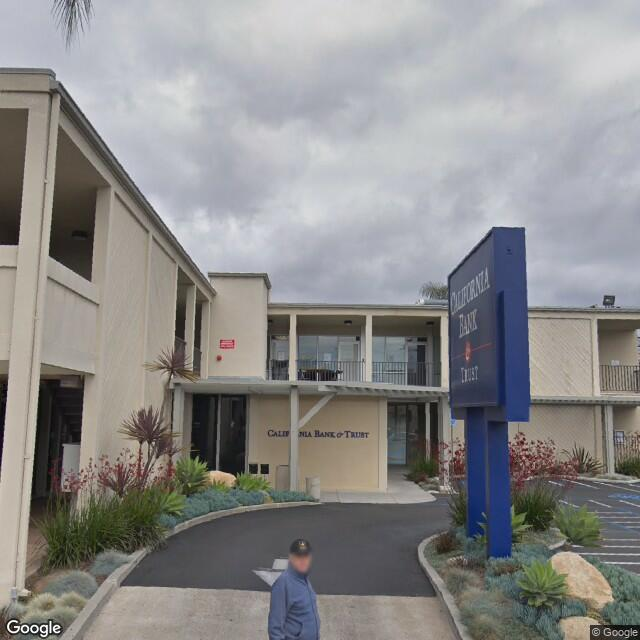window: (305, 325, 357, 384), (375, 332, 424, 384)
